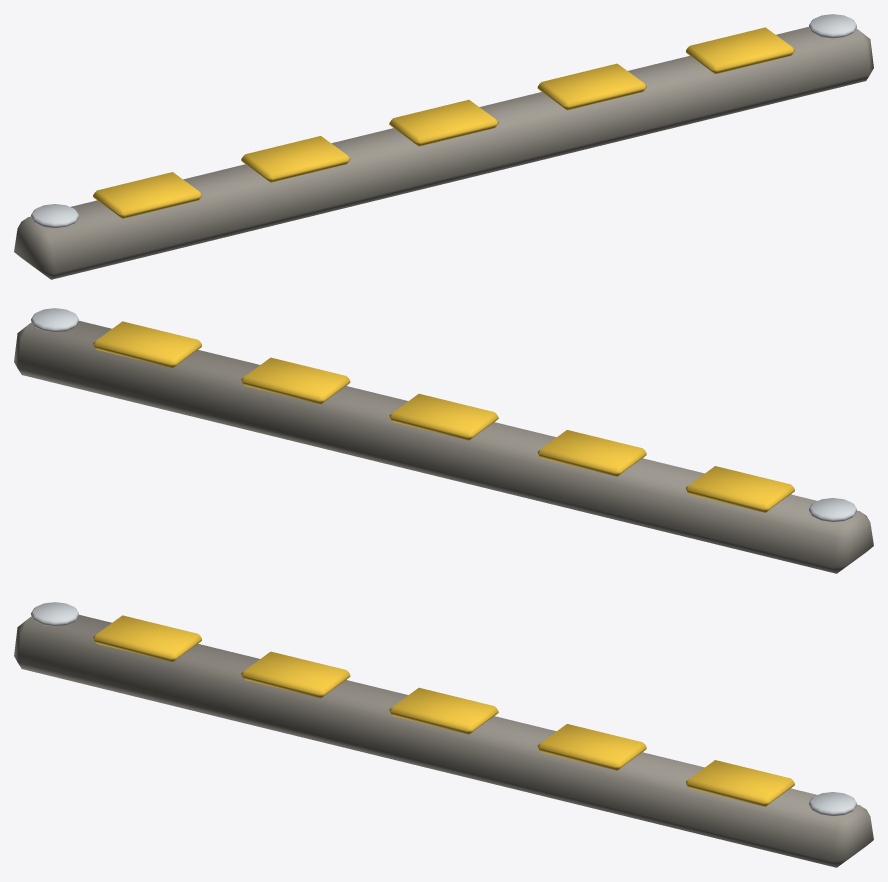
Rendered from SM_ParkingStop_01.glb.
The picture shows the model from 3 angles, top to bottom: view 1: azimuth 30°, elevation 25°; view 2: azimuth 150°, elevation 25°; view 3: azimuth 330°, elevation 25°; orthographic projection.
Visible parts, largest first — view 1: SM_ParkingStop_01; view 2: SM_ParkingStop_01; view 3: SM_ParkingStop_01.
Part boxes in pixels (x1=…): SM_ParkingStop_01: x1=14, y1=14, x2=873, y2=279; SM_ParkingStop_01: x1=14, y1=308, x2=873, y2=573; SM_ParkingStop_01: x1=14, y1=602, x2=873, y2=867.
Bounding box in the file's own units: 1.8 × 0.106 × 0.1405.
1 material, 1 textured.
